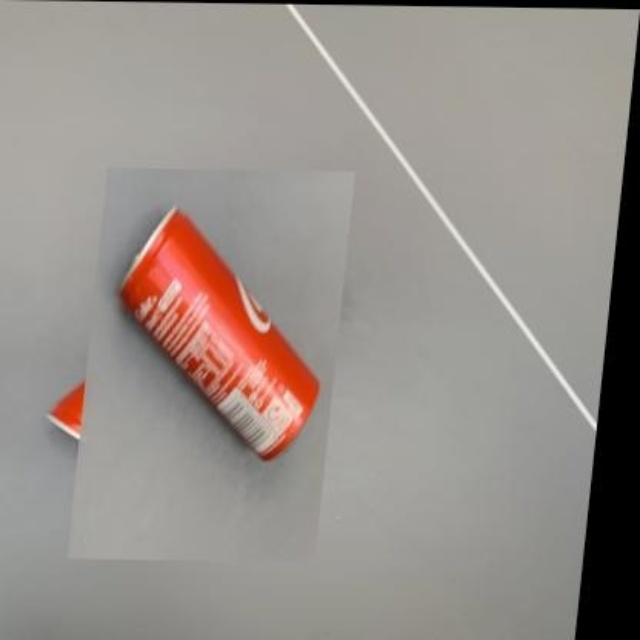trash: (122, 208, 318, 458)
